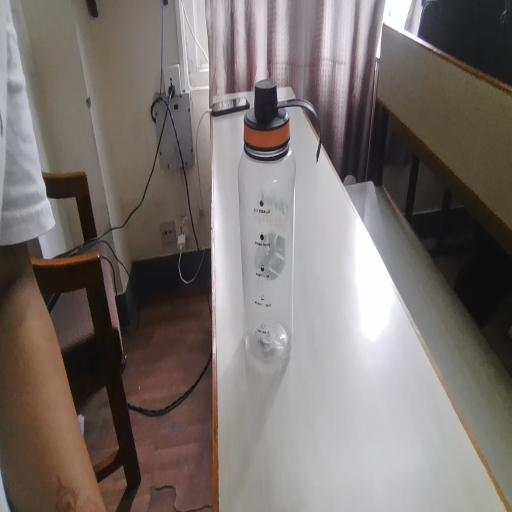Bottle: (242, 81, 316, 376)
